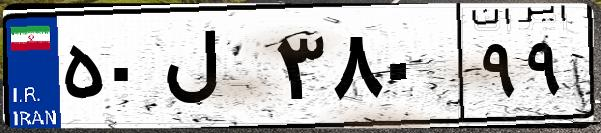0: (385, 28, 445, 110), (110, 28, 158, 98)
3: (270, 28, 330, 110)
5: (57, 26, 110, 100)
8: (330, 28, 385, 110)
9: (475, 38, 525, 113), (525, 38, 570, 115)
ل: (158, 20, 270, 120)
